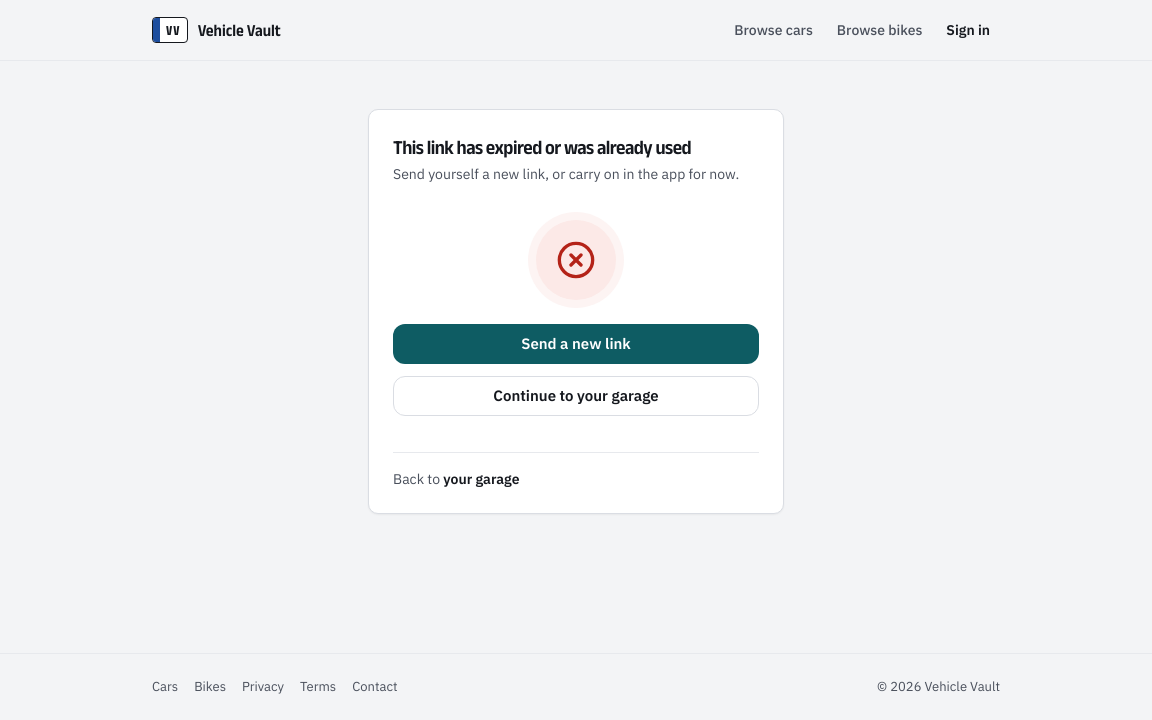
Scenario: VerifyEmailPage › says so when no new link can go out because email is off
Click the button "Send a new link". click: [576, 344]
box: 393,324 -> 759,364
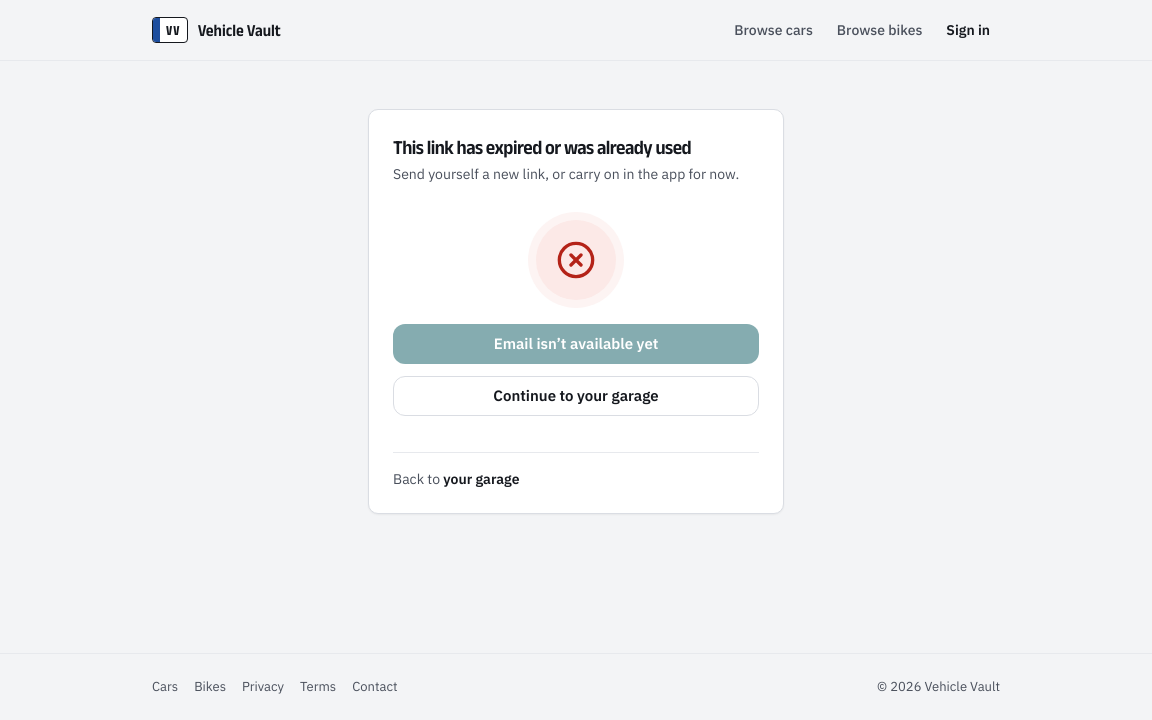
Result: the button "Email isn’t available yet" is disabled at 393,324 -> 759,364
